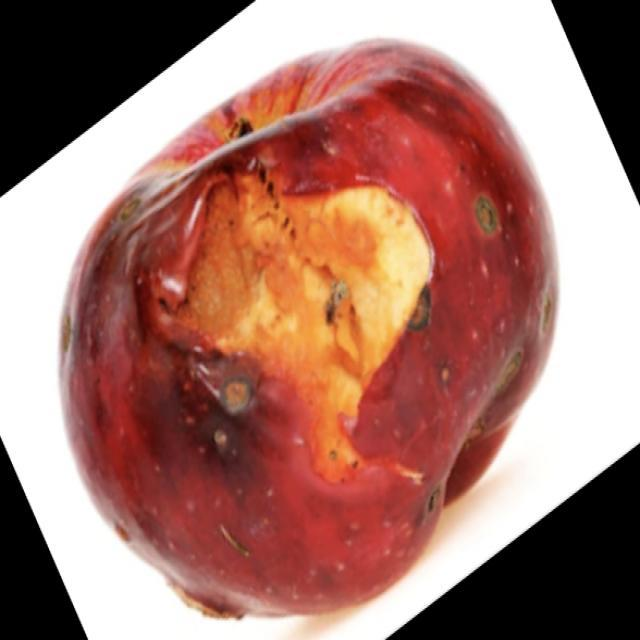Rotten: (60, 50, 580, 622)
